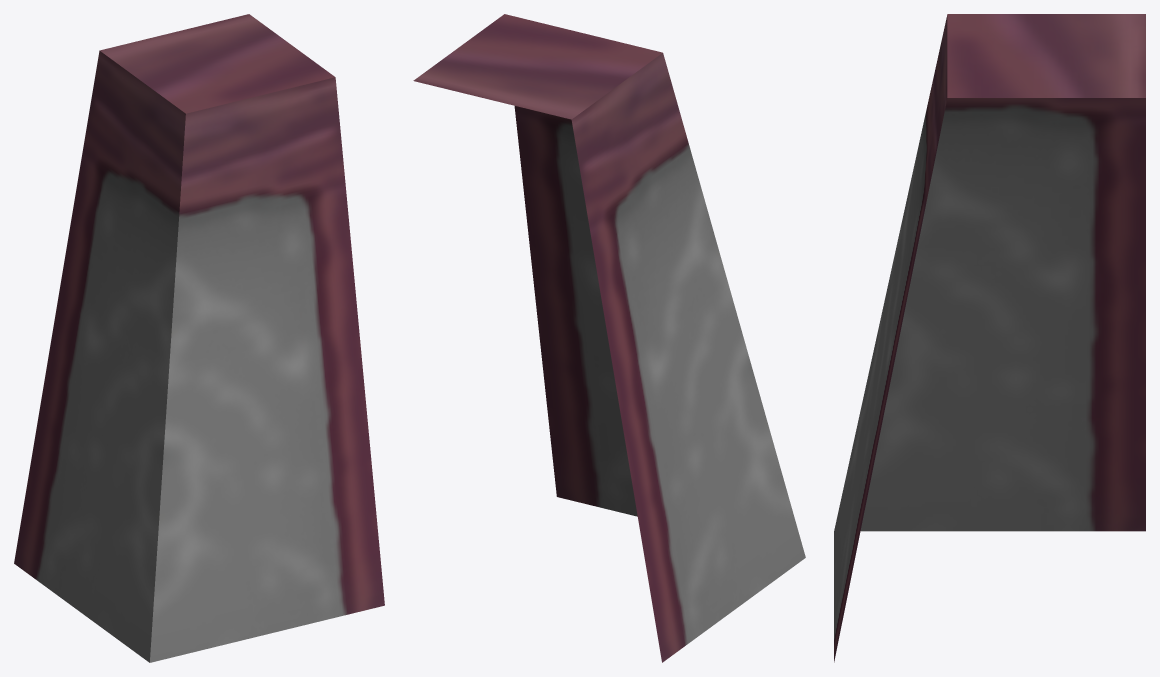
The model's file is MOD_WallBaseCOR_Block.fbx.
3 renders of one model, left to right at view 1: azimuth 30°, elevation 25°; view 2: azimuth 150°, elevation 25°; view 3: azimuth 270°, elevation 25°, orthographic. The views are drawn at different scales.
Visible parts, largest first — view 1: MOD_WallBaseCOR_Block; view 2: MOD_WallBaseCOR_Block; view 3: MOD_WallBaseCOR_Block.
Boxes of the visible parts, left/top/right/bottom form: MOD_WallBaseCOR_Block: left=14, top=14, right=384, bottom=662; MOD_WallBaseCOR_Block: left=413, top=14, right=805, bottom=662; MOD_WallBaseCOR_Block: left=834, top=14, right=1145, bottom=662.
Size of the model in its own units: 50 by 100 by 50.
1 material, 1 textured.
